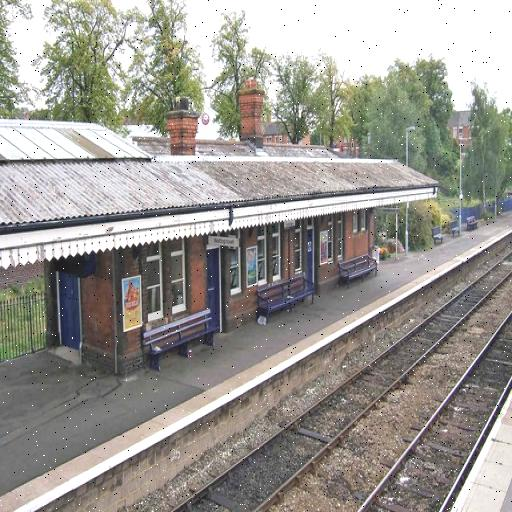platform_edge: (0, 391, 222, 512)
